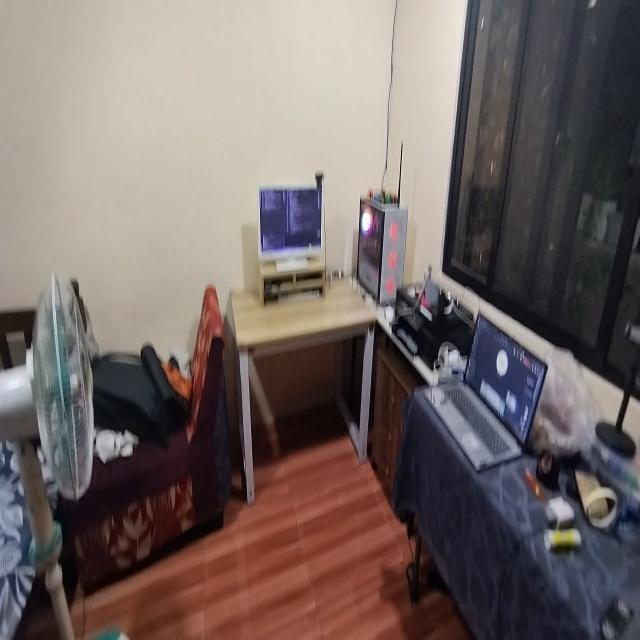table: (230, 264, 378, 506)
